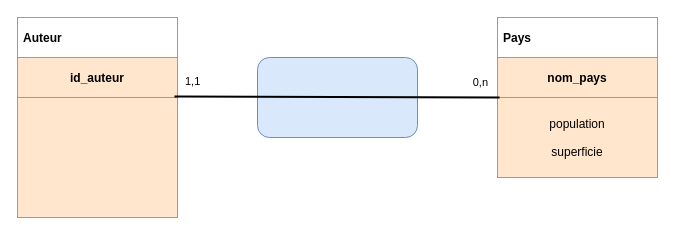
Image size: 675x235. Some labels were removed from this diagram. The centre of each missing label's shape, as x and y in pixels:
Est_originaire_de: the point at 337,97
nom prenom date_naissance: the point at 97,157
